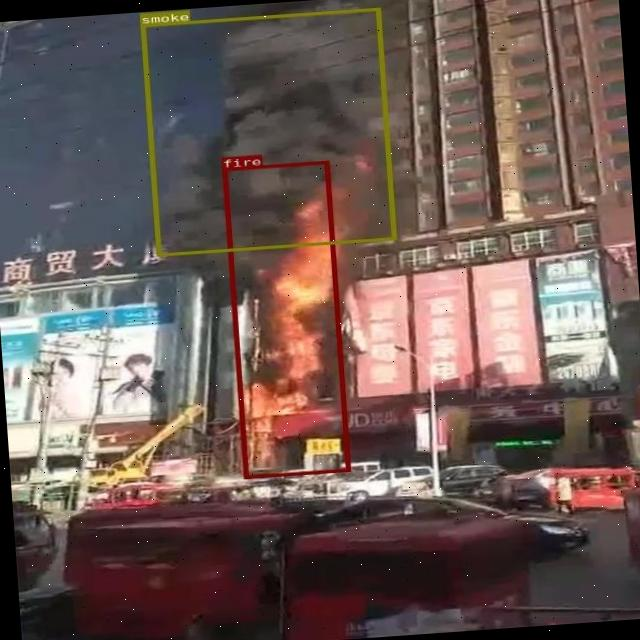fire: (222, 160, 348, 478)
smoke: (140, 7, 394, 255)
